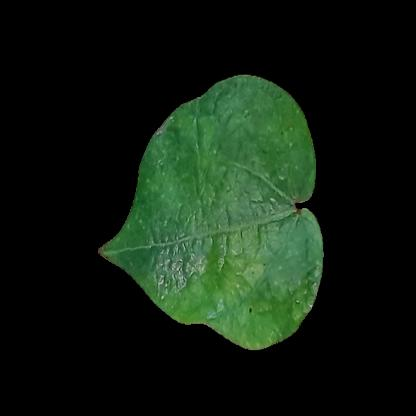healthy: (167, 132, 293, 316), (220, 90, 288, 198), (124, 220, 182, 282)
